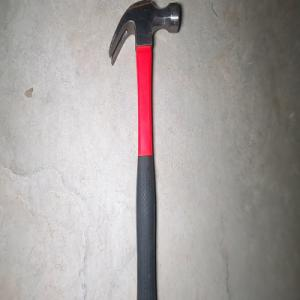Hammer: (107, 0, 180, 300)
